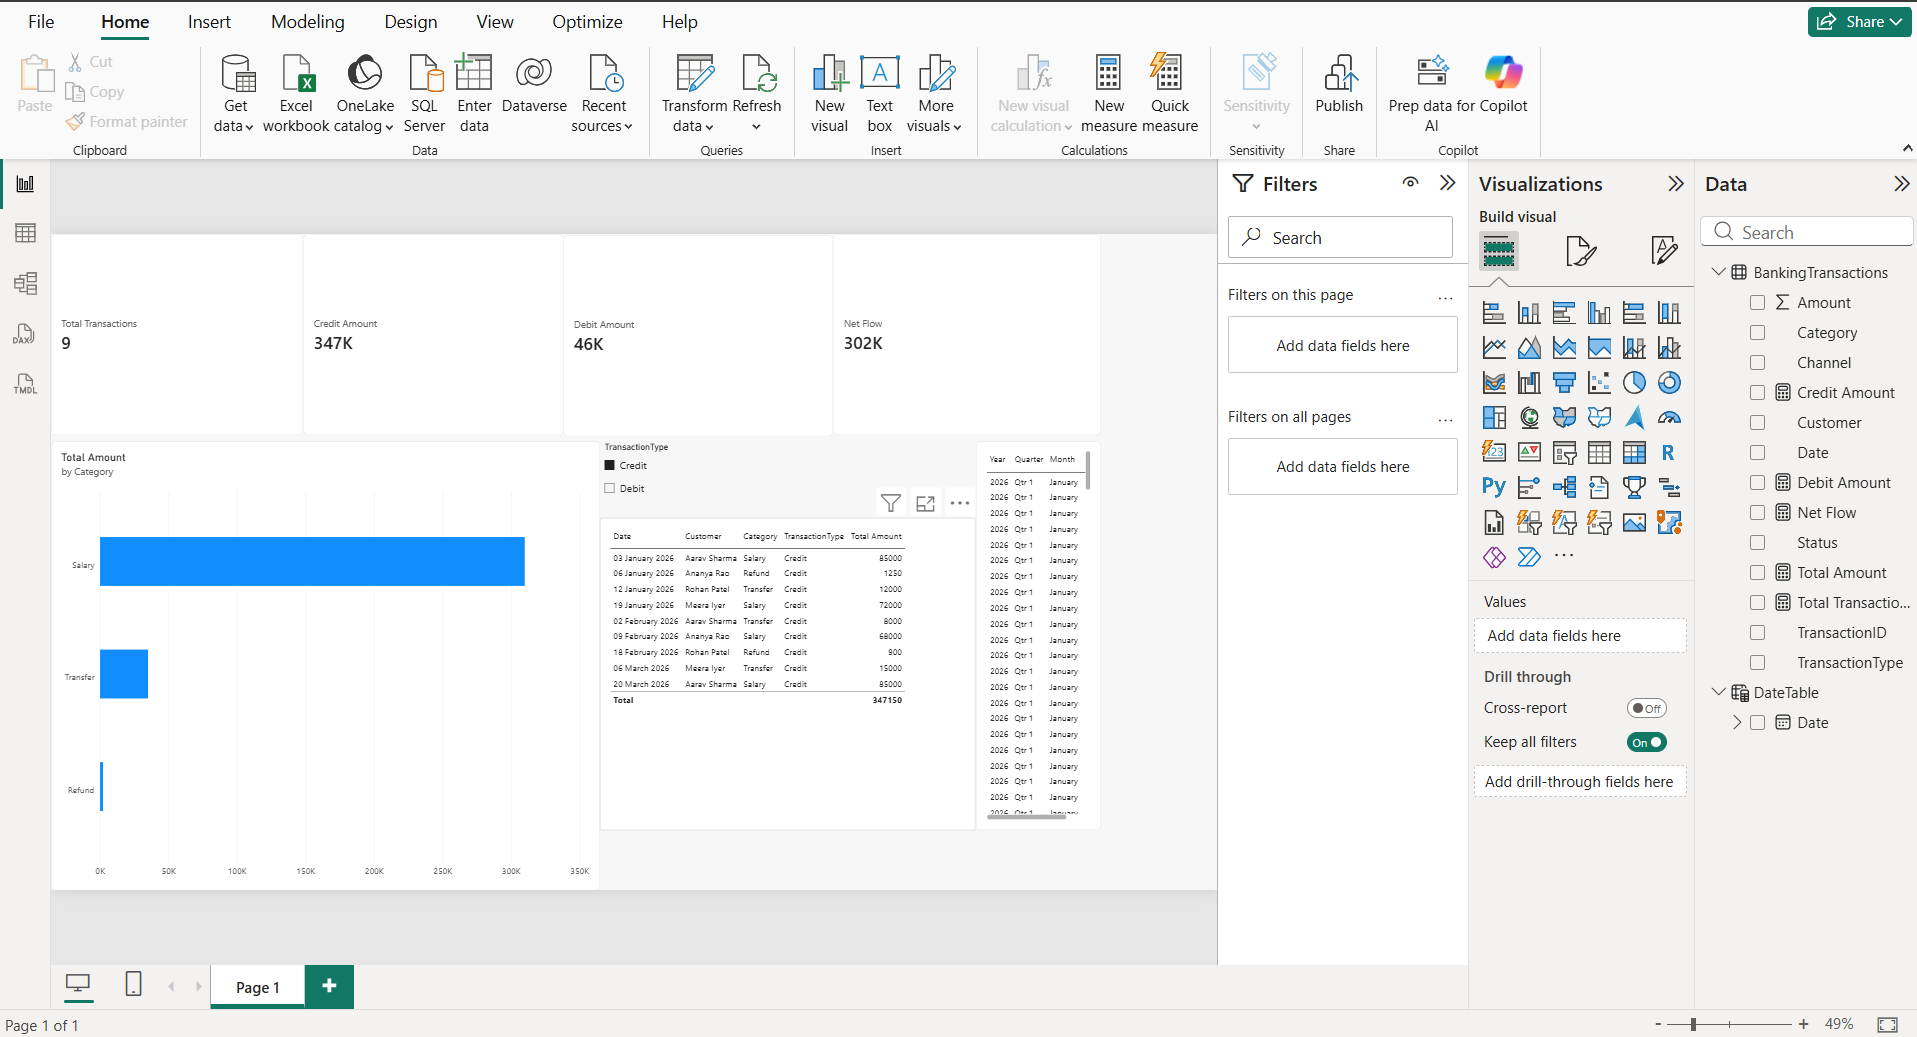

The dashboard page shown, as its layout file describes it:
{"tool":"powerbi","page":{"name":"Page 1","canvas":[1920,1080],"ordinal":0},"visuals":[{"type":"cardVisual","fields":{"Data":["BankingTransactions.Total Transactions"]},"box":[0,0,415.8,331.4],"z":0},{"type":"cardVisual","fields":{"Data":["BankingTransactions.Credit Amount"]},"box":[415.8,0,428.1,331.4],"z":1},{"type":"cardVisual","fields":{"Data":["BankingTransactions.Debit Amount"]},"box":[843.9,2.1,444.6,331.4],"z":2},{"type":"cardVisual","fields":{"Data":["BankingTransactions.Net Flow"]},"box":[1288.5,0,440.5,331.4],"z":3},{"type":"clusteredBarChart","fields":{"Category":["BankingTransactions.Category"],"Y":["BankingTransactions.Total Amount"]},"box":[0,341.7,903.6,738.9],"z":4},{"type":"slicer","fields":{"Values":["BankingTransactions.TransactionType"]},"box":[903.6,341.7,605.1,125.6],"z":5},{"type":"tableEx","fields":{"Values":["BankingTransactions.Date.Variation.Date Hierarchy.Year","BankingTransactions.Customer","BankingTransactions.Category","BankingTransactions.TransactionType","BankingTransactions.Total Amount"]},"box":[903.6,467.2,619.6,514.6],"z":6},{"type":"tableEx","fields":{"Values":["DateTable.Date.Variation.Date Hierarchy.Year","DateTable.Date.Variation.Date Hierarchy.Quarter","DateTable.Date.Variation.Date Hierarchy.Month","DateTable.Date.Variation.Date Hierarchy.Day"]},"box":[1523.2,341.7,205.8,640.1],"z":7}]}

Visuals, with their boxes on the page's 1920x1080 design canvas (x1, y1, x2, y2). These are canvas units, not pixel positions in the 1917x1037 screenshot, which may show the page scaled, cropped or inside an application window:
cardVisual - BankingTransactions.Total Transactions: (0, 0, 416, 331)
cardVisual - BankingTransactions.Credit Amount: (416, 0, 844, 331)
cardVisual - BankingTransactions.Debit Amount: (844, 2, 1288, 334)
cardVisual - BankingTransactions.Net Flow: (1288, 0, 1729, 331)
clusteredBarChart - BankingTransactions.Category x BankingTransactions.Total Amount: (0, 342, 904, 1081)
slicer - BankingTransactions.TransactionType: (904, 342, 1509, 467)
tableEx - BankingTransactions.Date.Variation.Date Hierarchy.Year x BankingTransactions.Customer: (904, 467, 1523, 982)
tableEx - DateTable.Date.Variation.Date Hierarchy.Year x DateTable.Date.Variation.Date Hierarchy.Quarter: (1523, 342, 1729, 982)
